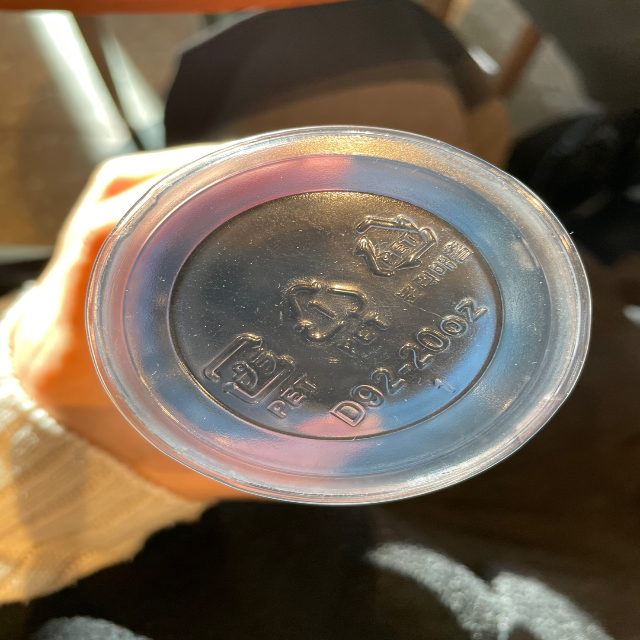pet: (353, 204, 474, 307), (194, 330, 317, 423), (274, 274, 392, 358)
